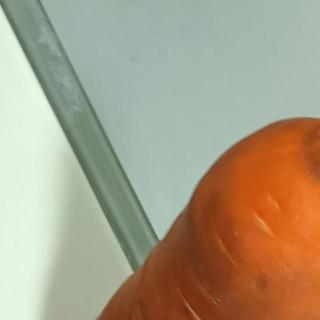carrot: (31, 110, 320, 319)
